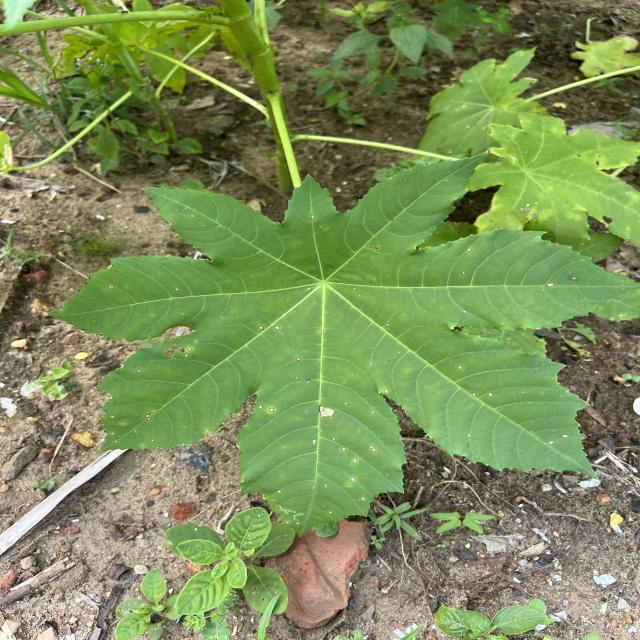Ricinus communis linn: (40, 147, 640, 544)
